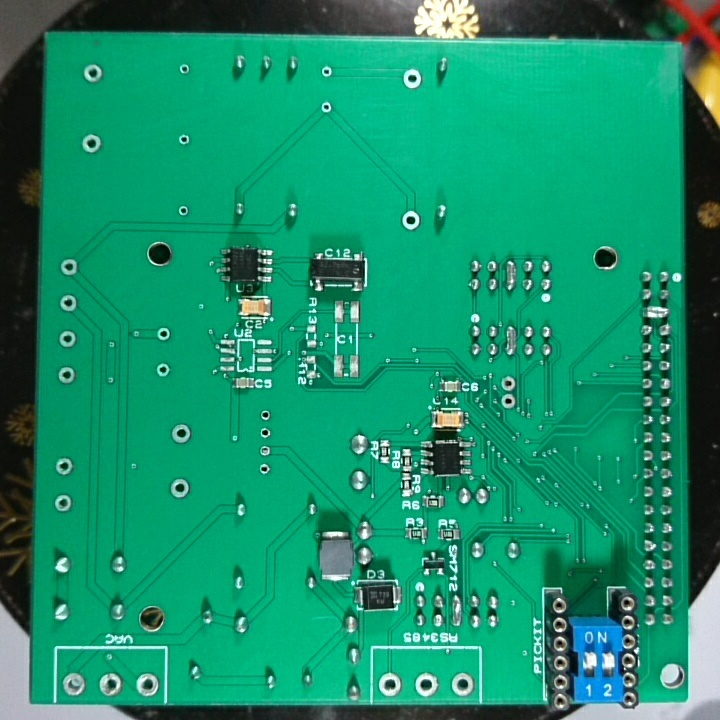F: (96, 669, 125, 697), (449, 668, 476, 698), (412, 672, 444, 697), (134, 671, 161, 697), (60, 669, 84, 698), (376, 672, 405, 696), (81, 62, 105, 89), (167, 475, 191, 502), (170, 420, 193, 448), (79, 133, 105, 157), (55, 291, 81, 315), (54, 364, 78, 389), (401, 65, 424, 90), (55, 327, 77, 350), (53, 455, 75, 478), (401, 208, 422, 232), (53, 491, 74, 515), (59, 257, 81, 278), (154, 325, 174, 345), (153, 358, 171, 380), (499, 390, 516, 413), (499, 373, 519, 392), (319, 63, 336, 81), (176, 62, 193, 79), (319, 99, 334, 118), (177, 132, 193, 149), (258, 440, 273, 458), (256, 458, 270, 477), (259, 424, 274, 441), (259, 406, 273, 422), (176, 203, 190, 218)
P: (448, 590, 464, 633), (503, 255, 519, 297), (639, 304, 674, 321), (504, 318, 518, 360)
